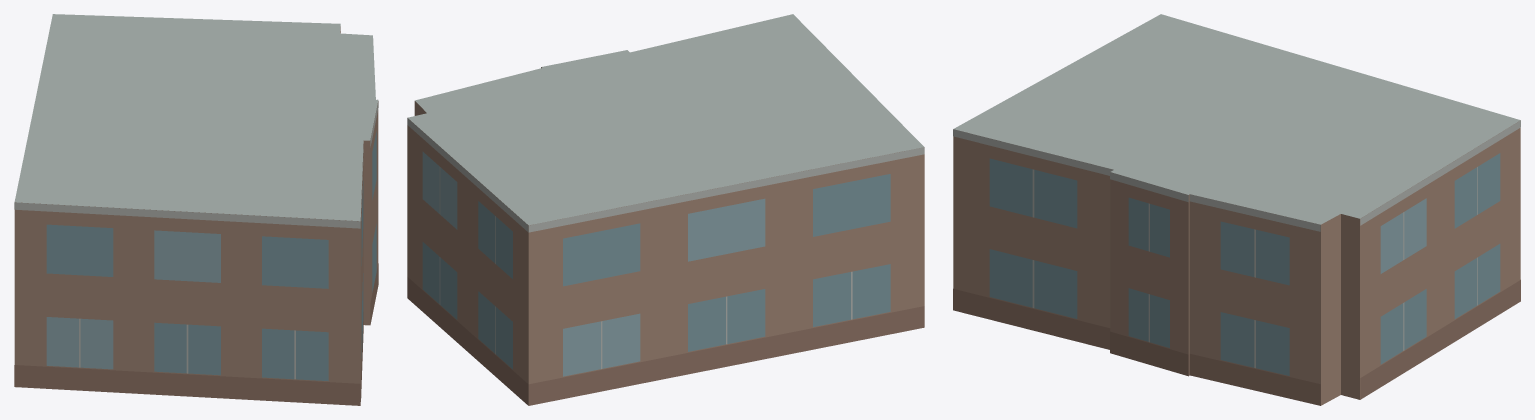
File: survey-upis-32940588.glb
3 views of the same model, side by side, from view 1: azimuth 30°, elevation 25°; view 2: azimuth 150°, elevation 25°; view 3: azimuth 270°, elevation 25° (orthographic). The views are drawn at different scales.
Parts seen in each view (by area): view 1: survey-upis-32940588.tmp; view 2: survey-upis-32940588.tmp; view 3: survey-upis-32940588.tmp.
Boxes of the visible parts, x1=… form: survey-upis-32940588.tmp: x1=14, y1=14, x2=378, y2=405; survey-upis-32940588.tmp: x1=407, y1=14, x2=924, y2=405; survey-upis-32940588.tmp: x1=953, y1=14, x2=1520, y2=405.
Bounding box in the file's own units: 15.22 × 6.1 × 17.33.
